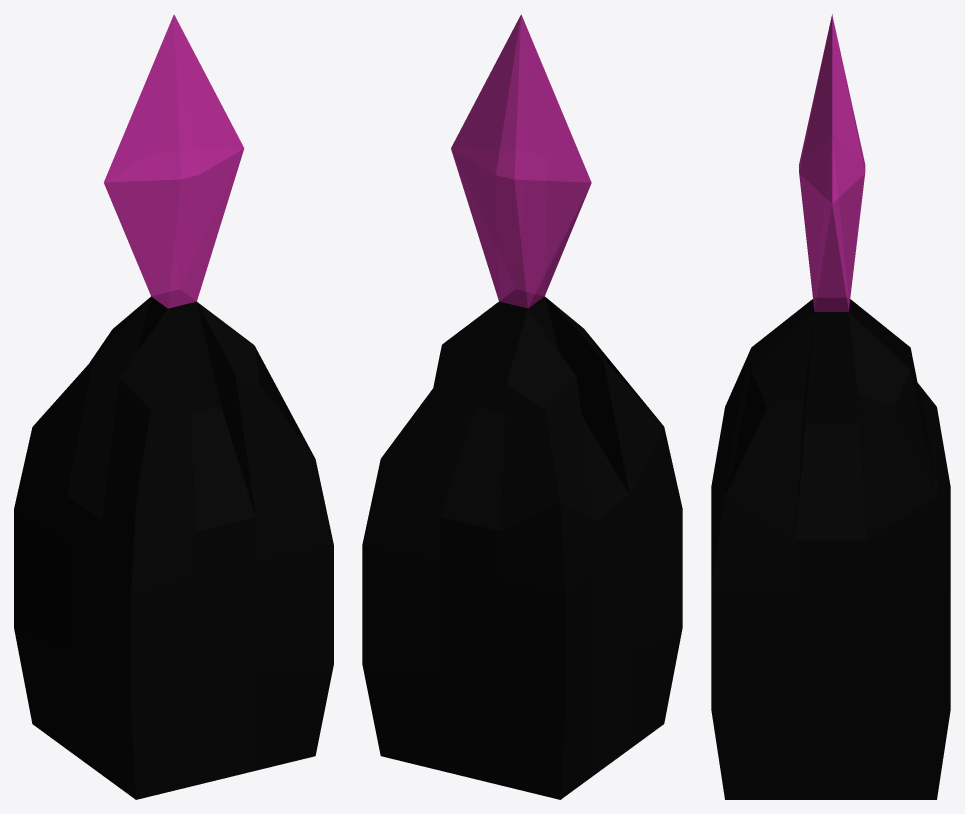
File: tower.fbx
The picture shows the model from 3 angles, left to right: view 1: azimuth 30°, elevation 25°; view 2: azimuth 150°, elevation 25°; view 3: azimuth 270°, elevation 25°; orthographic projection. The views are drawn at different scales.
Parts seen in each view (by area): view 1: Cube; view 2: Cube; view 3: Cube.
Part boxes in pixels (x1,y1,x2,y2): Cube: (14, 14, 333, 799); Cube: (362, 14, 682, 799); Cube: (711, 14, 950, 799).
Size of the model in its own units: 226 by 772 by 226.
